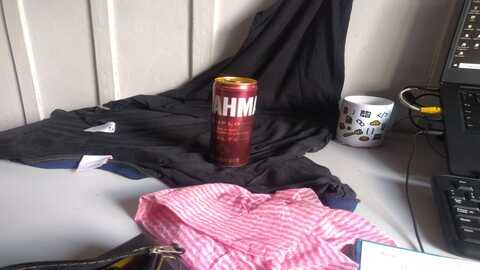duplo_malte: (204, 77, 258, 170)
